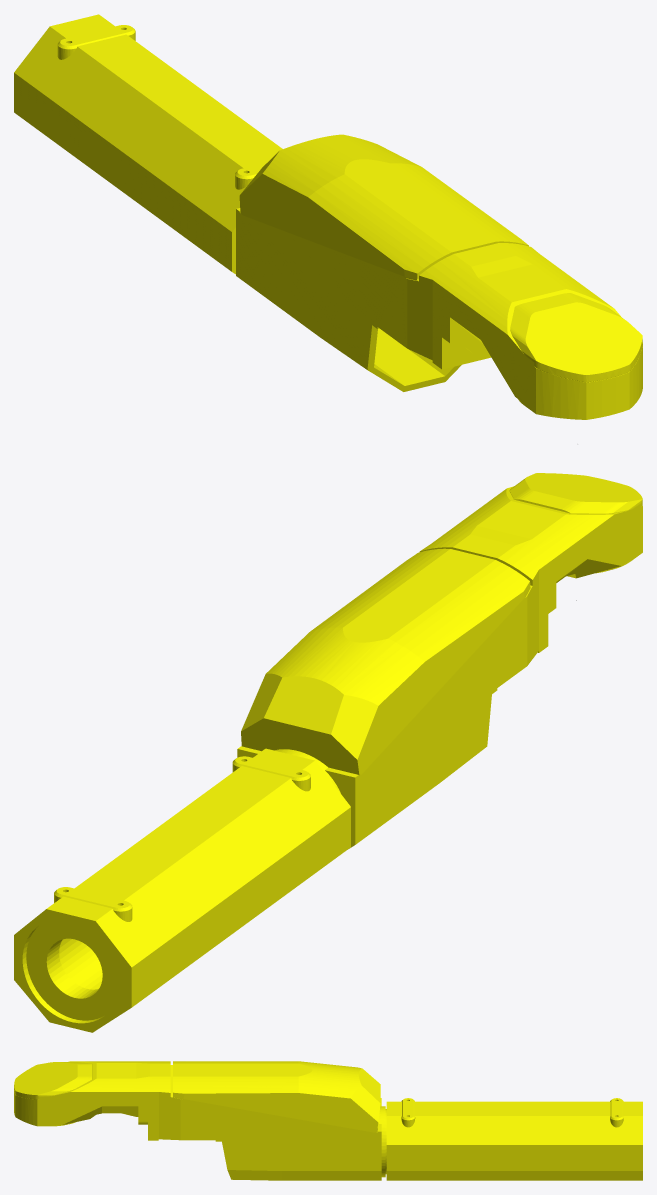
3 renders of one model, top to bottom at view 1: azimuth 30°, elevation 25°; view 2: azimuth 150°, elevation 25°; view 3: azimuth 270°, elevation 25°, orthographic. The views are drawn at different scales.
Visible parts, largest first — view 1: node; view 2: node; view 3: node.
Boxes of the visible parts, bbox=[...] form: node: bbox=[14, 14, 642, 444]; node: bbox=[14, 473, 642, 1032]; node: bbox=[14, 1061, 642, 1180].
Size of the model in its own units: 110 by 160 by 867.
